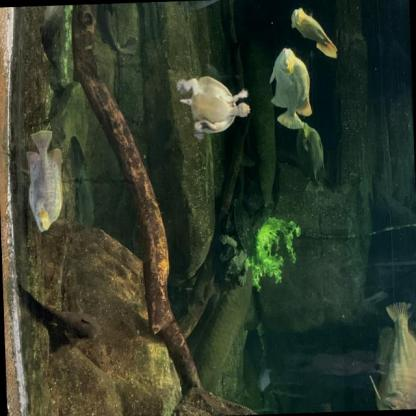fish: (365, 298, 415, 410), (25, 128, 66, 233), (268, 48, 314, 132), (40, 4, 79, 80), (290, 3, 340, 61), (94, 2, 140, 56), (293, 120, 326, 194)
